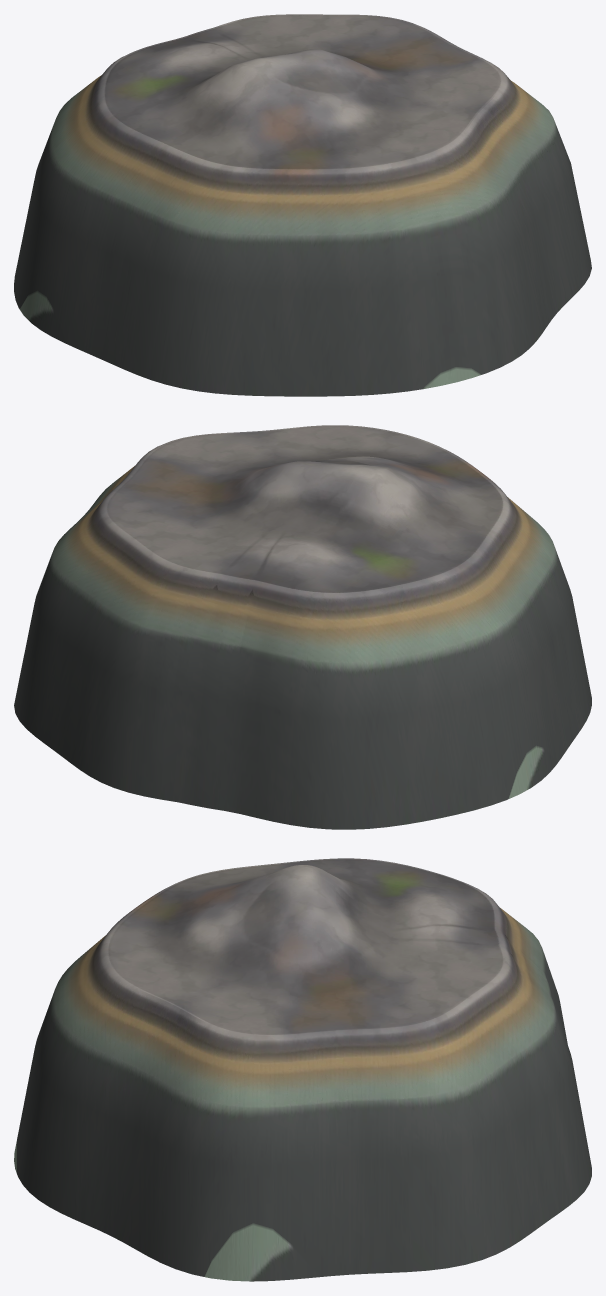
The model's file is rocky_1.glb.
3 renders of one model, top to bottom at view 1: azimuth 30°, elevation 25°; view 2: azimuth 150°, elevation 25°; view 3: azimuth 270°, elevation 25°, orthographic. The views are drawn at different scales.
Parts seen in each view (by area): view 1: rocky_1; view 2: rocky_1; view 3: rocky_1.
Part boxes in pixels (bbox=[...]): rocky_1: bbox=[14, 14, 591, 396]; rocky_1: bbox=[14, 425, 591, 829]; rocky_1: bbox=[14, 858, 591, 1281].
Size of the model in its own units: 32.11 by 14.83 by 30.56.
1 material, 1 textured.
